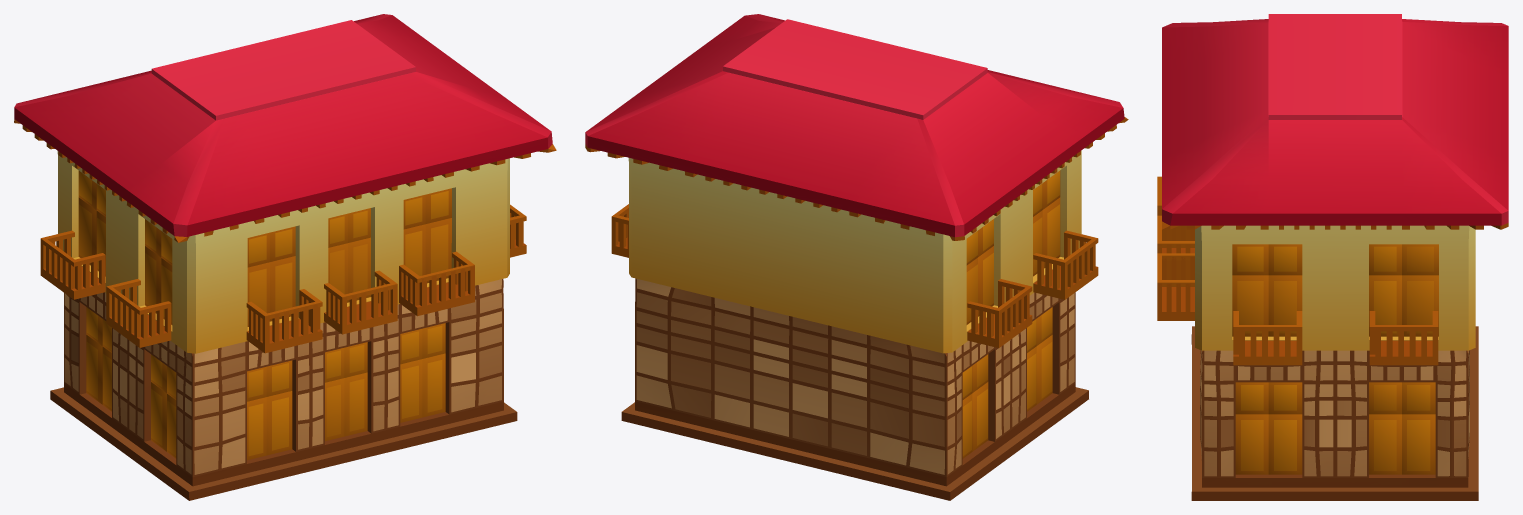
File: basicHouse.FBX
3 views of the same model, side by side, from view 1: azimuth 30°, elevation 25°; view 2: azimuth 150°, elevation 25°; view 3: azimuth 270°, elevation 25° (orthographic). The views are drawn at different scales.
Parts seen in each view (by area): view 1: house, door05, door03, window05, door04, window03, window04, door02, door01, window02, window01; view 2: house, door01, door02, window01, window02; view 3: house, door06, door07, window06, window07.
Boxes of the visible parts, x1,y1,x2,y2 form: house: (14,14,556,500); door05: (400,323,445,422); door03: (247,360,292,460); window05: (403,188,451,283); door04: (325,342,367,441); window03: (247,226,295,326); window04: (328,208,370,302); door02: (151,354,176,458); door01: (86,307,111,411); window02: (78,171,105,276); window01: (145,219,172,324); house: (585,14,1128,500); door01: (962,354,988,458); door02: (1027,307,1052,411); window01: (1033,170,1060,276); window02: (966,219,993,324); house: (1157,14,1508,500); door06: (1235,382,1302,474); door07: (1369,382,1435,474); window06: (1232,244,1302,336); window07: (1369,244,1438,336).
Size of the model in its own units: 95.71 by 80.94 by 72.84.
